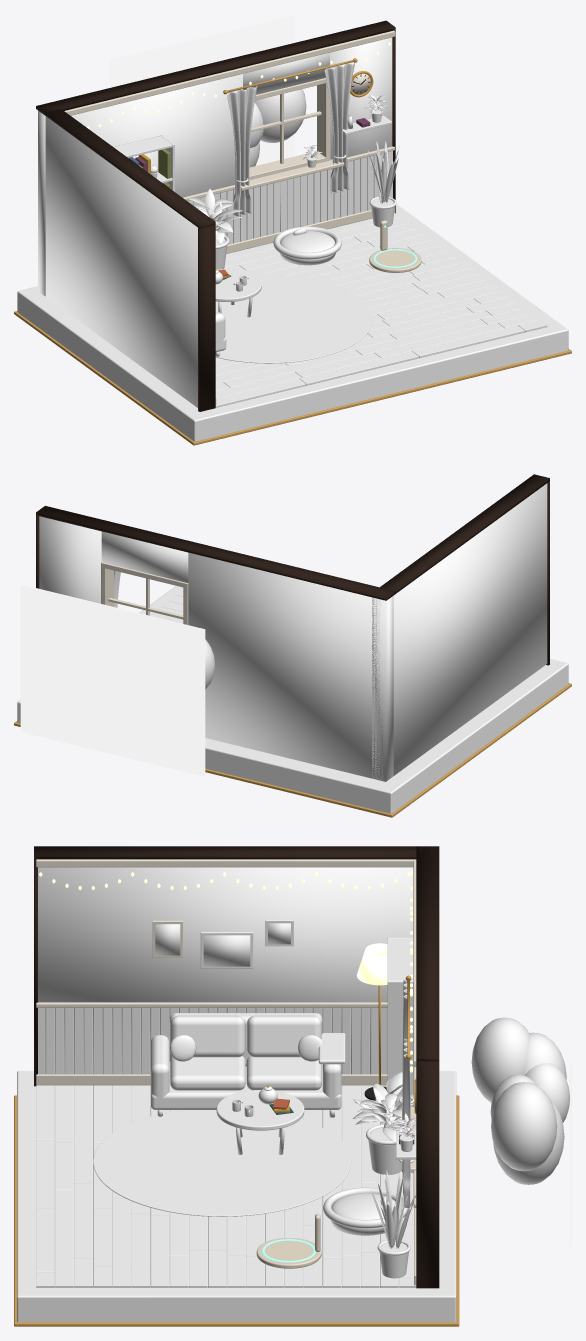
Rendered from CozyNook_Env.glb.
The picture shows the model from 3 angles, top to bottom: view 1: azimuth 30°, elevation 25°; view 2: azimuth 150°, elevation 25°; view 3: azimuth 270°, elevation 25°; orthographic projection. The views are drawn at different scales.
Visible parts, largest first — view 1: ENV_WallLeft, ENV_Floor, ENV_Plinth, ENV_WallBack_Left, ENV_Rug, ENV_Wainscot, ENV_Outside_Sky, ENV_WallCap_Back, ENV_WallBack_Right, ENV_WallCap_LeftEnd, ENV_WallCap_Left, ENV_Plinth_Trim (+17 smaller); view 2: ENV_WallBack_Left, ENV_WallLeft, ENV_Outside_Sky, ENV_Plinth, ENV_WallBack_Right, ENV_WallCap_Back, ENV_WallCap_Left, ENV_WallBack_Head, ENV_Plinth_Trim, ENV_WallCap_LeftEnd, ENV_Window_FrameR, ENV_Floor (+1 smaller); view 3: ENV_WallLeft, ENV_Floor, ENV_Plinth, ENV_Rug, ENV_Wainscot, ENV_WallCap_BackEnd, ENV_WallCap_Left, ENV_WallCap_Back, ENV_Outside_Tree_04, ENV_Plinth_Trim, ENV_Cornice_Left, ENV_Outside_Tree_01 (+31 smaller).
Part boxes in pixels (x1,y1,x2,y2): ENV_WallLeft: (45,116,197,407); ENV_Floor: (215,213,547,407); ENV_Plinth: (17,204,568,441); ENV_WallBack_Left: (38,74,242,296); ENV_Rug: (215,275,372,363); ENV_Wainscot: (187,151,392,244); ENV_Outside_Sky: (110,14,294,165); ENV_WallCap_Back: (36,20,395,114); ENV_WallBack_Right: (330,37,392,159); ENV_WallCap_LeftEnd: (198,224,215,411); ENV_WallCap_Left: (36,105,215,228); ENV_Plinth_Trim: (14,311,571,445); ENV_WallBack_Left: (188,552,393,781); ENV_WallLeft: (372,483,547,781); ENV_Outside_Sky: (20,584,205,776); ENV_Plinth: (17,586,568,813); ENV_WallBack_Right: (39,516,101,603); ENV_WallCap_Back: (36,506,395,600); ENV_WallCap_Left: (370,474,549,600); ENV_WallBack_Head: (101,531,188,582); ENV_Plinth_Trim: (14,683,571,817); ENV_WallCap_LeftEnd: (546,481,549,665); ENV_Window_FrameR: (101,562,114,606); ENV_Floor: (150,591,183,623); ENV_WallLeft: (38,867,413,1074); ENV_Floor: (36,1085,416,1287); ENV_Plinth: (17,1071,456,1322); ENV_Rug: (93,1110,351,1216); ENV_Wainscot: (38,1008,387,1074); ENV_WallCap_BackEnd: (416,1059,439,1288); ENV_WallCap_Left: (34,846,436,859); ENV_WallCap_Back: (416,846,439,1061); ENV_Outside_Tree_04: (491,1082,557,1171); ENV_Plinth_Trim: (14,1095,459,1326); ENV_Cornice_Left: (36,859,415,867); ENV_Outside_Tree_01: (471,1017,530,1102).
Size of the model in its own units: 5.66 by 3.01 by 5.84.
